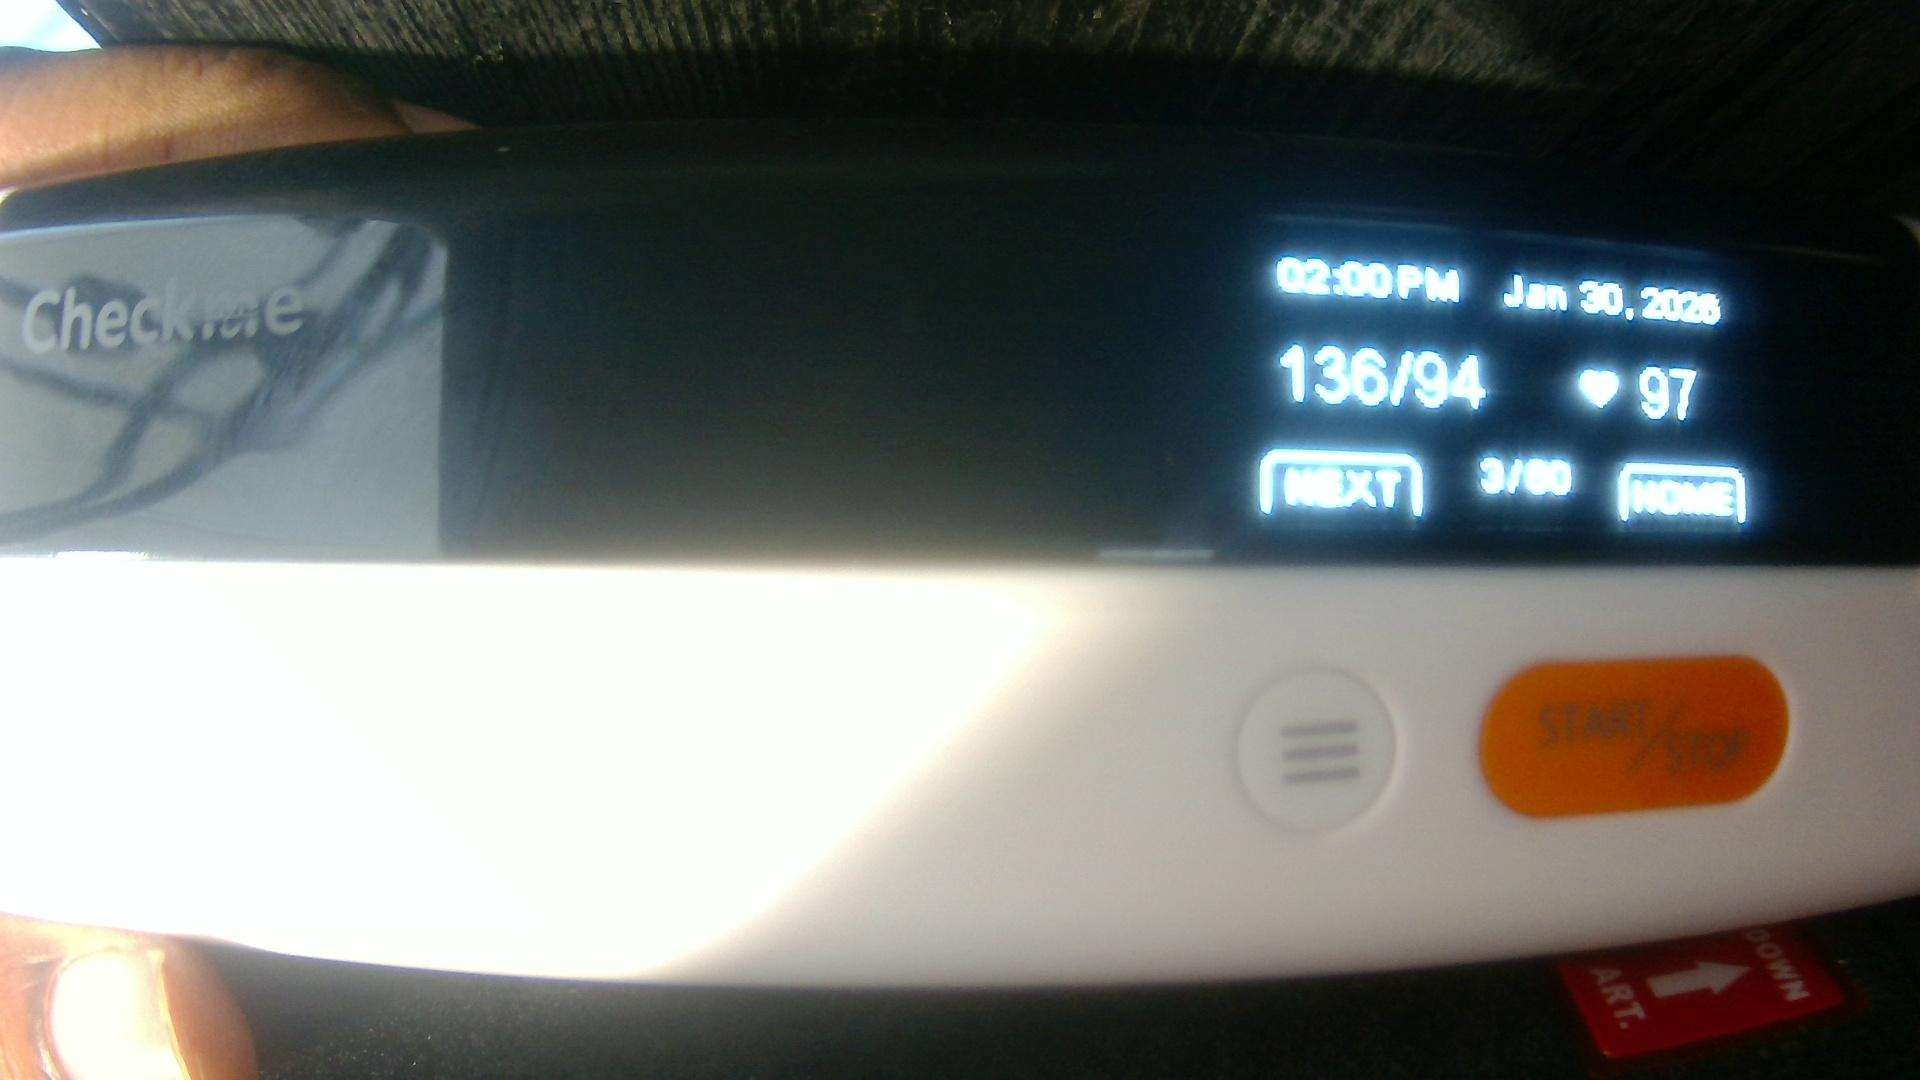DISPLAY: (6, 196, 1914, 563)
